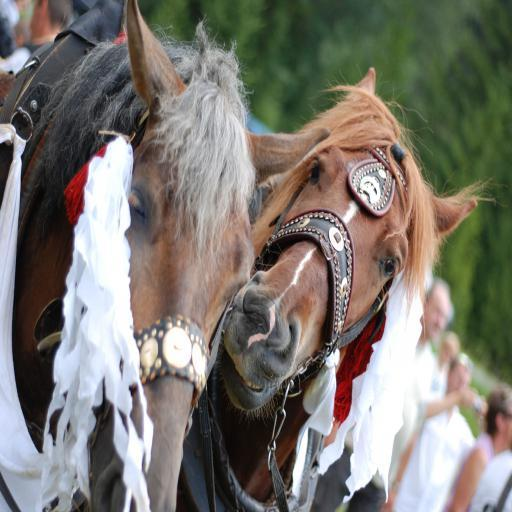horse: (175, 66, 509, 512), (0, 0, 262, 511)
